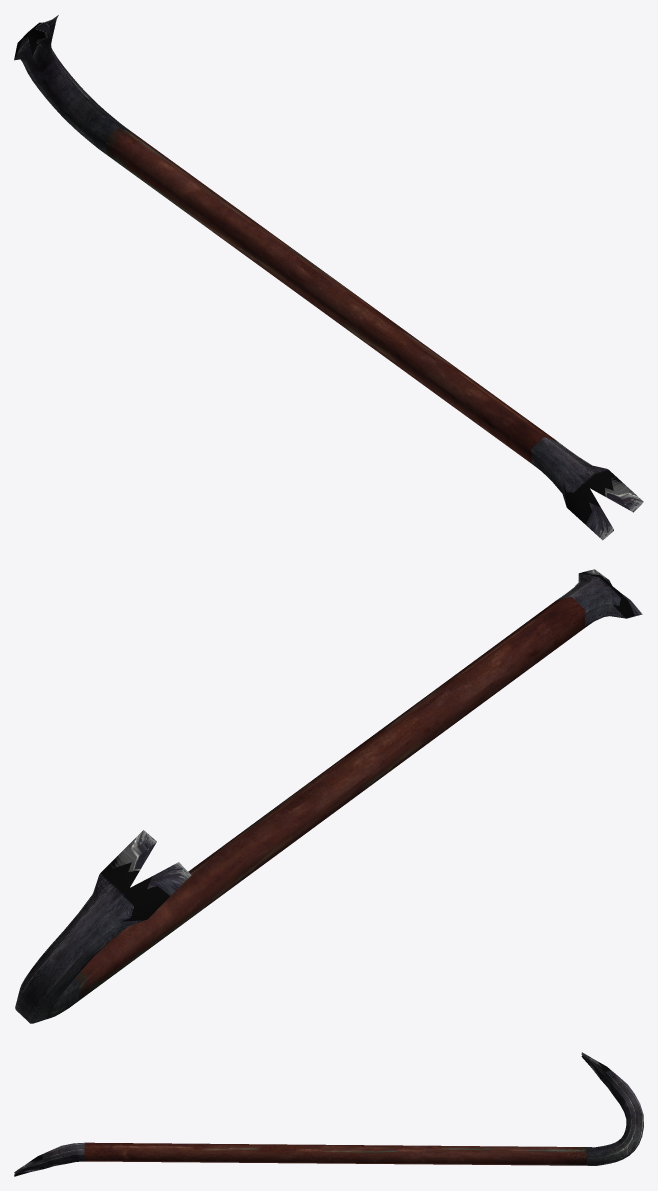
File: w_Crowbar.fbx
3 renders of one model, top to bottom at view 1: azimuth 30°, elevation 25°; view 2: azimuth 150°, elevation 25°; view 3: azimuth 270°, elevation 25°, orthographic. The views are drawn at different scales.
Visible parts, largest first — view 1: w_Crowbar_reference; view 2: w_Crowbar_reference; view 3: w_Crowbar_reference.
Boxes of the visible parts, x1,y1,x2,y2 form: w_Crowbar_reference: (14, 15, 643, 540); w_Crowbar_reference: (15, 569, 642, 1023); w_Crowbar_reference: (14, 1052, 643, 1176).
Bounding box in the file's own units: 516 × 649 × 3422.
